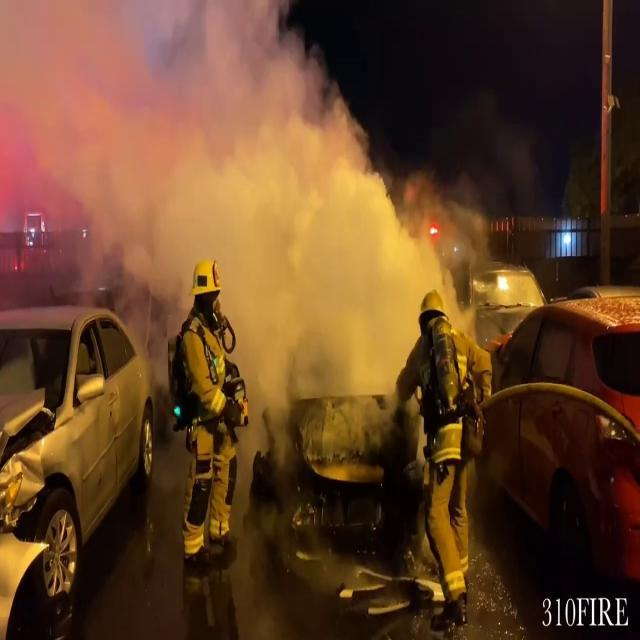Smoke: (16, 0, 482, 450)
